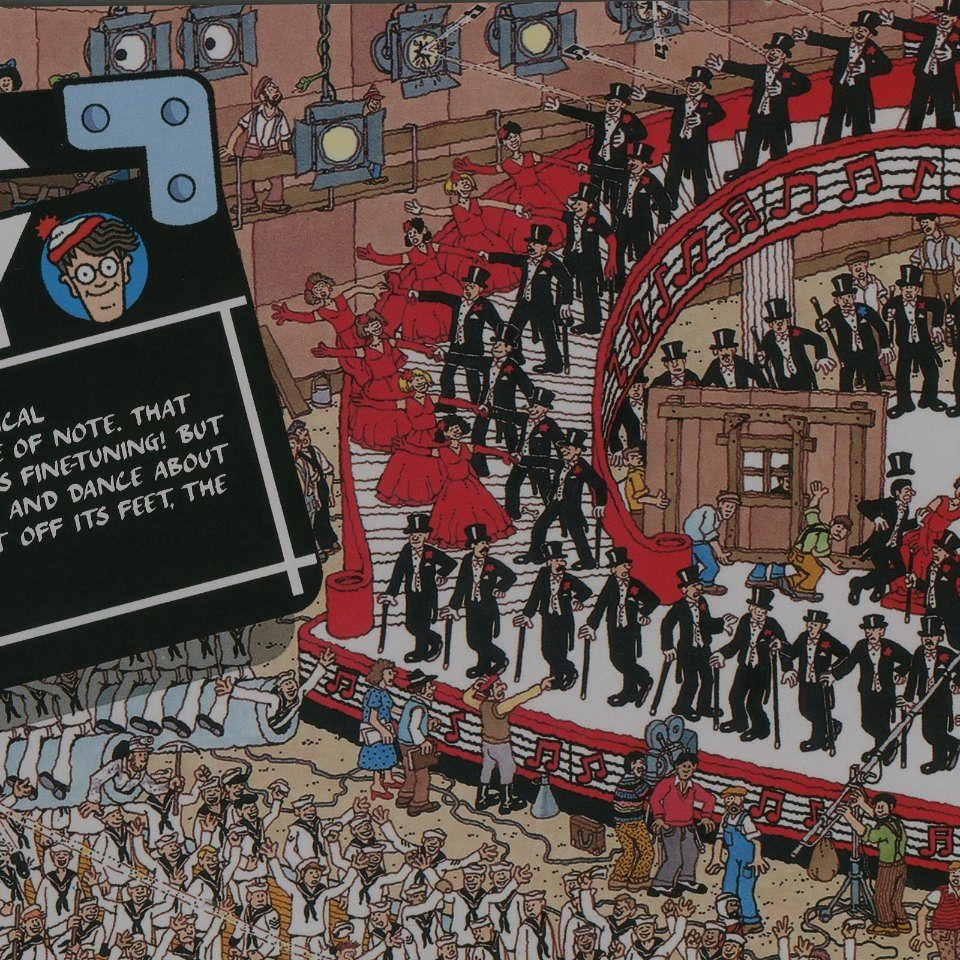waldo: (36, 216, 146, 323)
